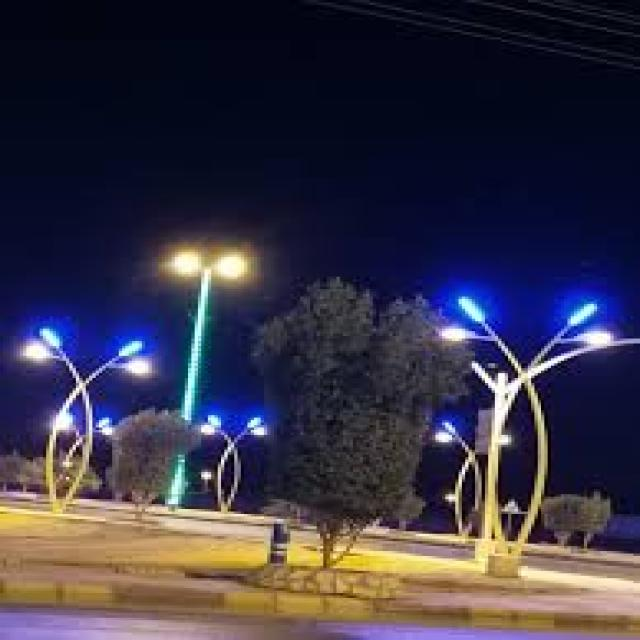Street Light: (162, 250, 248, 509)
